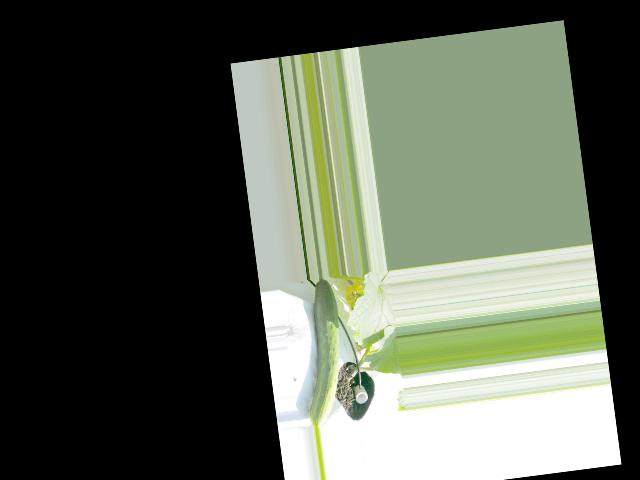cucumber: (292, 277, 352, 429)
